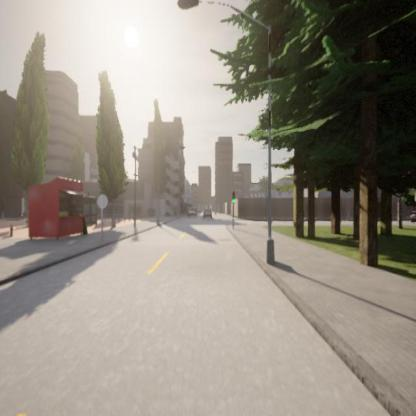traffic_light_green: (232, 192, 235, 204)
